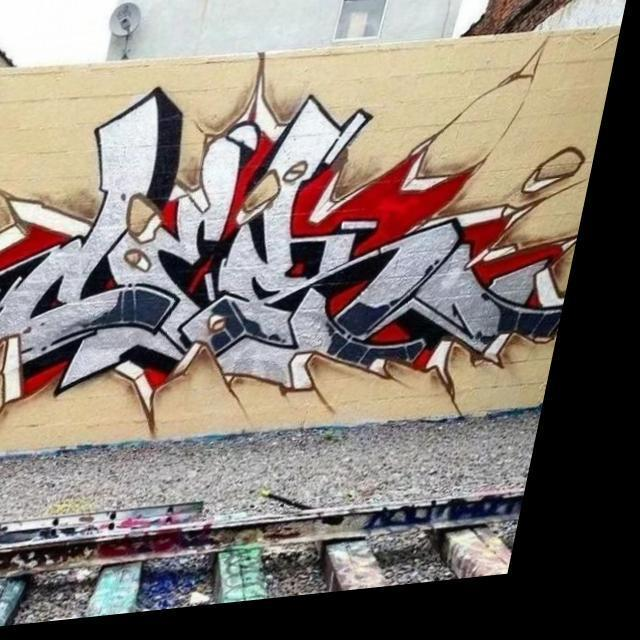-: (0, 26, 627, 477), (0, 370, 27, 422)
